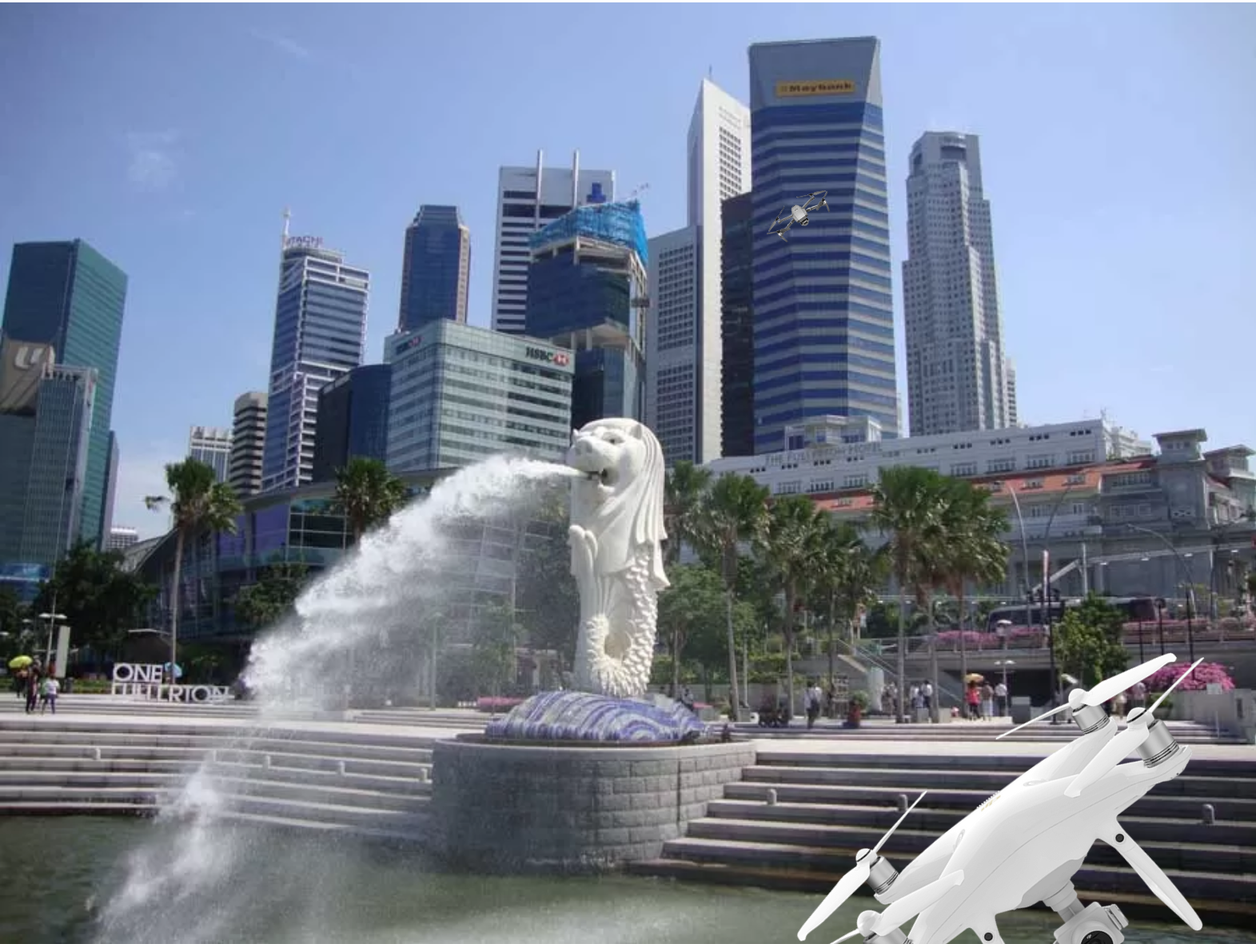drone_other: (790, 649, 1214, 944), (764, 185, 836, 241)
